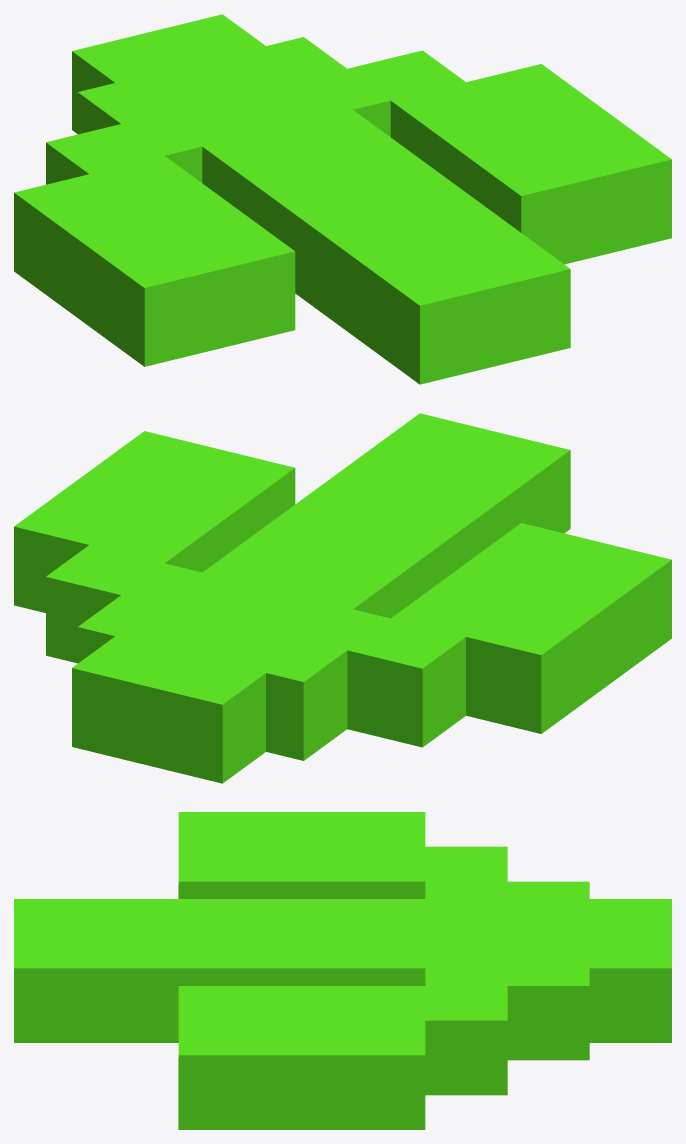
File: Modelos_space_invaders4.fbx
3 views of the same model, one above another, from view 1: azimuth 30°, elevation 25°; view 2: azimuth 150°, elevation 25°; view 3: azimuth 270°, elevation 25° (orthographic). The views are drawn at different scales.
Parts seen in each view (by area): view 1: Plane.008; view 2: Plane.008; view 3: Plane.008.
Part boxes in pixels (x1,y1,x2,y2): Plane.008: [14, 14, 671, 384]; Plane.008: [14, 413, 671, 783]; Plane.008: [14, 812, 671, 1129].
Bounding box in the file's own units: 700 × 100 × 800.
